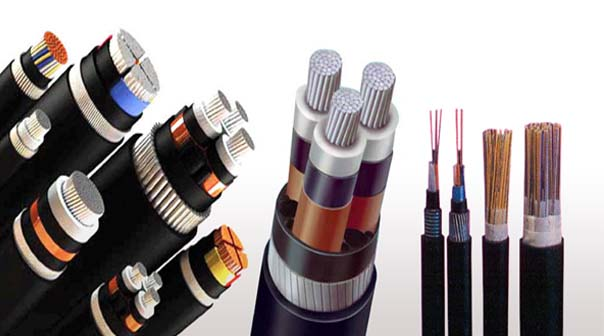Nonrec_Tangler: (1, 12, 248, 325), (418, 94, 589, 334), (263, 43, 398, 329)
